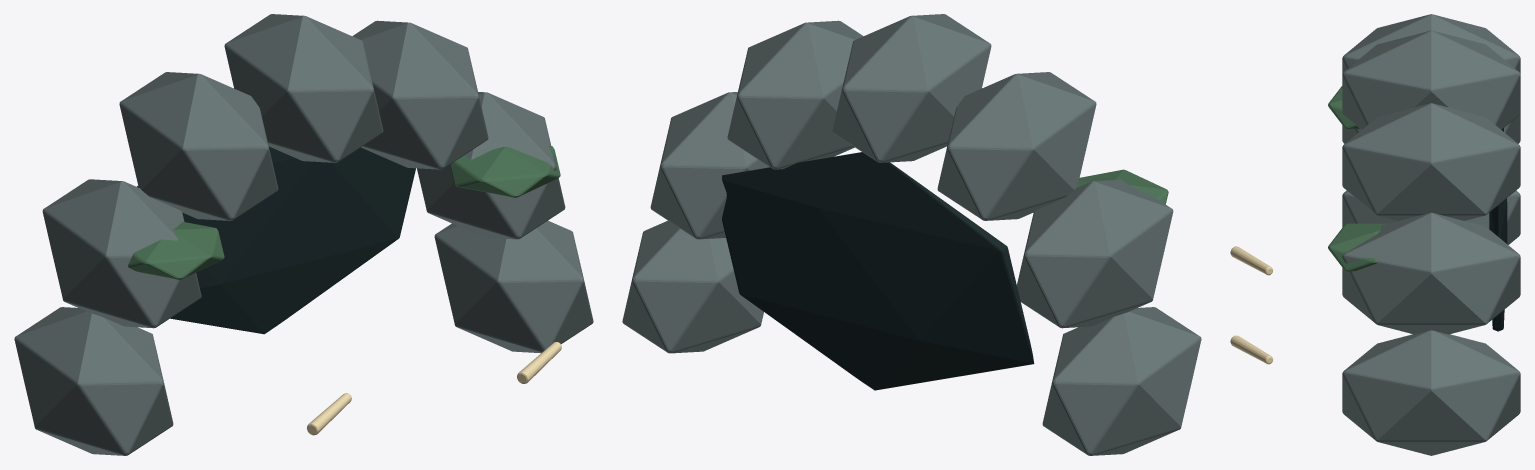
The model's file is beast_den.glb.
The picture shows the model from 3 angles, left to right: view 1: azimuth 30°, elevation 25°; view 2: azimuth 150°, elevation 25°; view 3: azimuth 270°, elevation 25°; orthographic projection. The views are drawn at different scales.
Visible parts, largest first — view 1: CaveStone, CaveShadow, Moss, ScatteredBone; view 2: CaveStone, CaveShadow, Moss; view 3: CaveStone, Moss, ScatteredBone, CaveShadow.
Part boxes in pixels (x1,y1,x2,y2): CaveStone: (14,14,593,455); CaveShadow: (137,146,415,334); Moss: (128,145,560,279); ScatteredBone: (307,342,561,435); CaveStone: (622,14,1201,455); CaveShadow: (722,152,1034,390); Moss: (1077,169,1168,204); CaveStone: (1342,14,1520,455); Moss: (1328,86,1387,271); ScatteredBone: (1230,246,1273,364); CaveShadow: (1489,128,1507,331).
Size of the model in its own units: 7.69 by 5.28 by 4.13.
